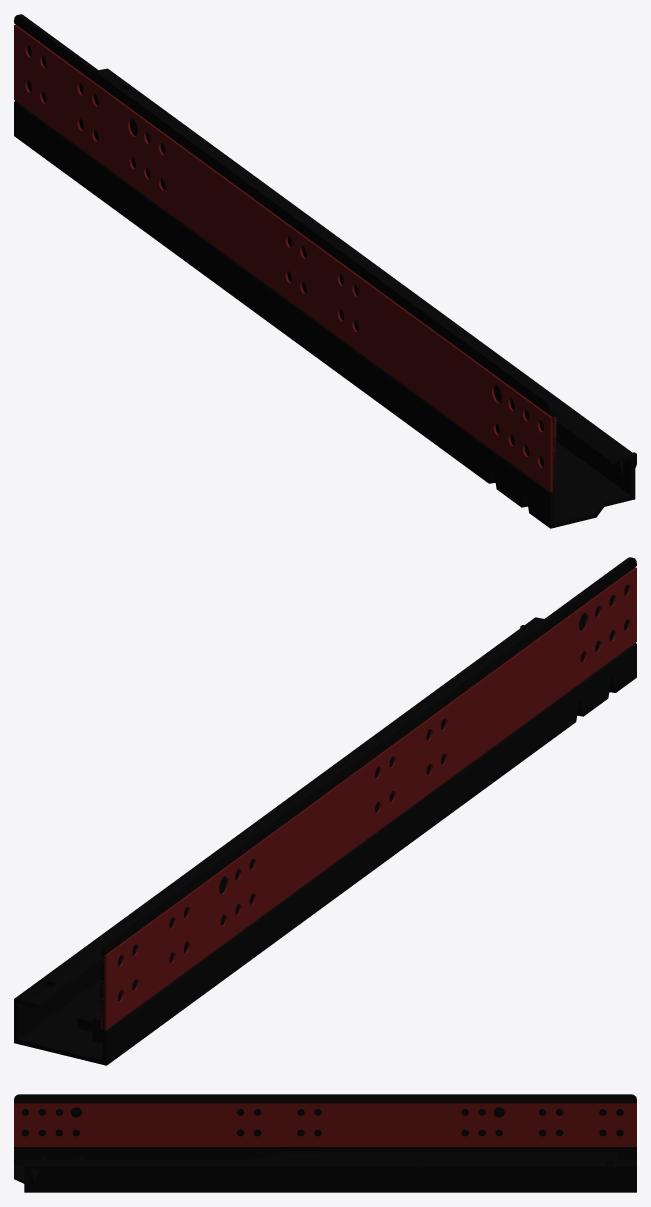
File: napr.korp.500_l_1784899961037.glb
The picture shows the model from 3 angles, top to bottom: view 1: azimuth 30°, elevation 25°; view 2: azimuth 150°, elevation 25°; view 3: azimuth 270°, elevation 25°; orthographic projection. The views are drawn at different scales.
Visible parts, largest first — view 1: Geom3D (×2); view 2: Geom3D (×2); view 3: Geom3D (×3).
Boxes of the visible parts, bbox=[...] form: Geom3D (×2): bbox=[14, 14, 636, 528]; Geom3D (×2): bbox=[14, 557, 636, 1065]; Geom3D (×3): bbox=[14, 1094, 636, 1192].
Bounding box in the file's own units: 0.0359 × 0.042 × 0.33.
